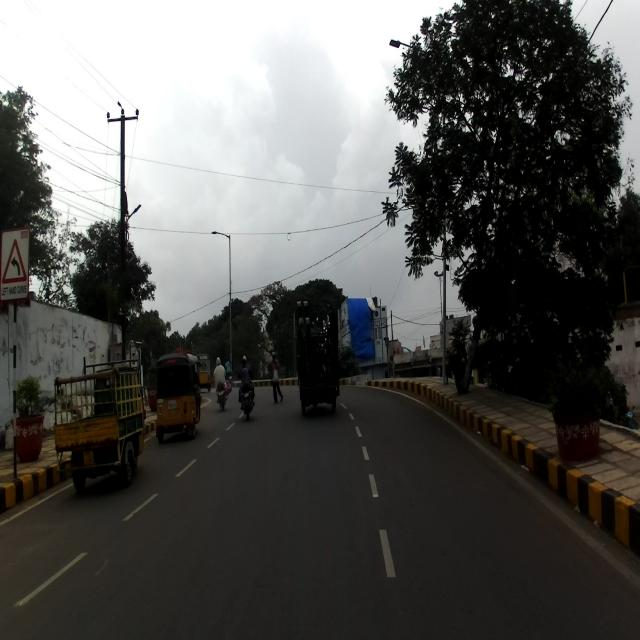autorickshaw: (50, 339, 148, 495), (293, 296, 342, 417), (154, 352, 203, 442)
